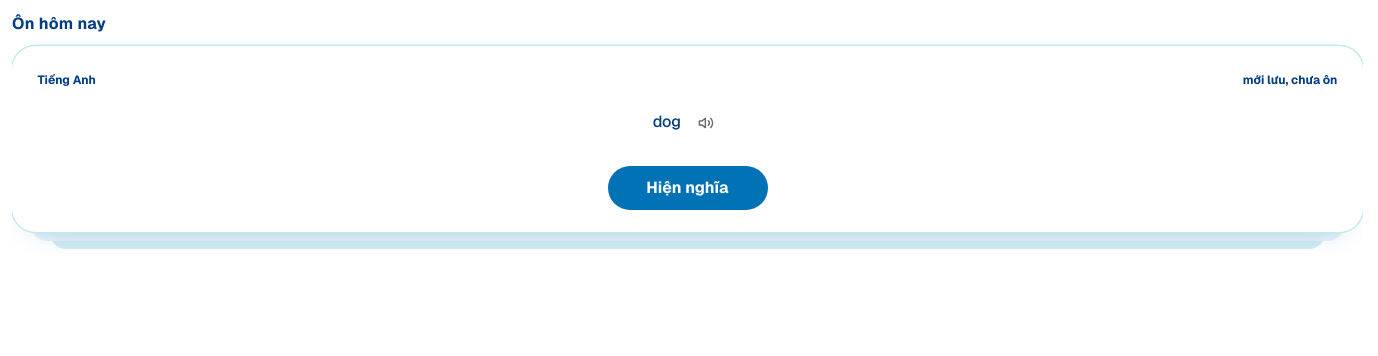
HomeReviewDeck › sends a word graded Lại to the end of the session
Click the button "Hiện nghĩa": (688, 188) [608, 166, 768, 210]
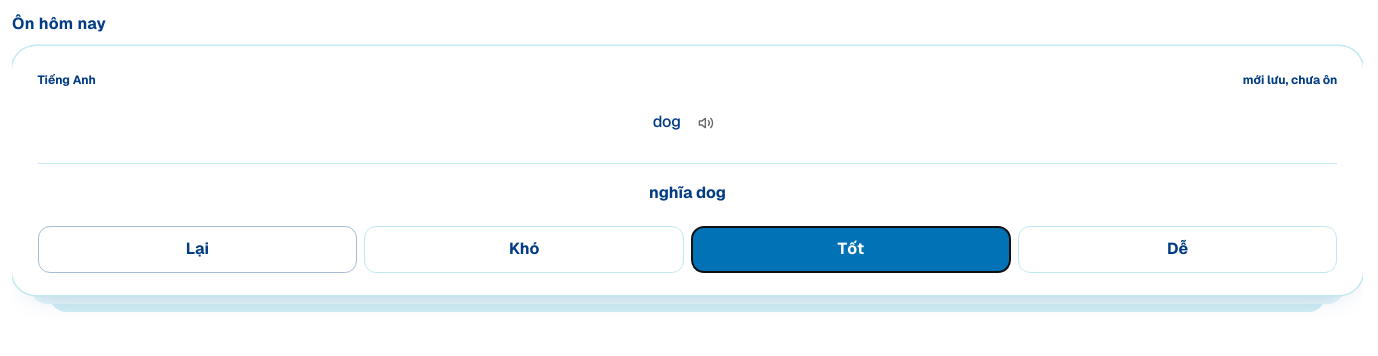
Click the button "Lại": (197, 249) [38, 226, 357, 273]
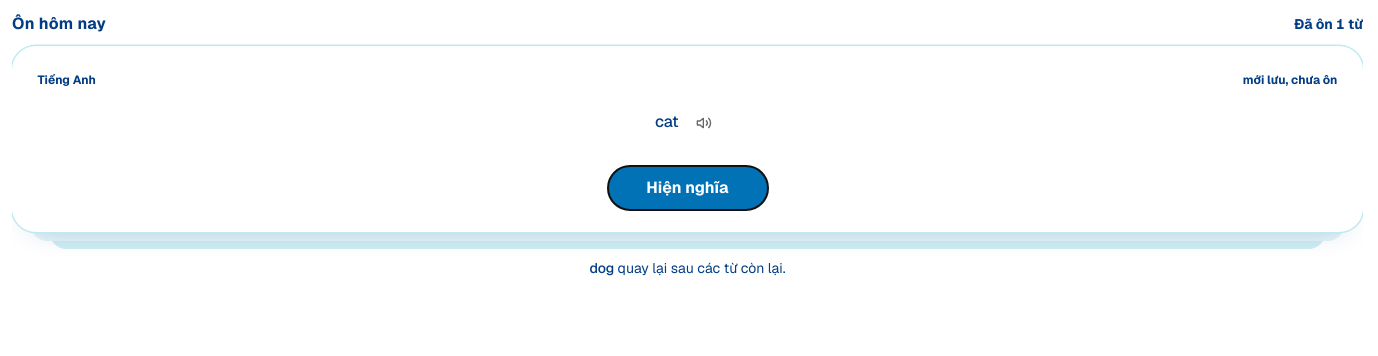
expect the text "cat" is shown: met, box [655, 114, 678, 131]
Click the button "Hiện nghĩa": (688, 188) [608, 166, 768, 210]
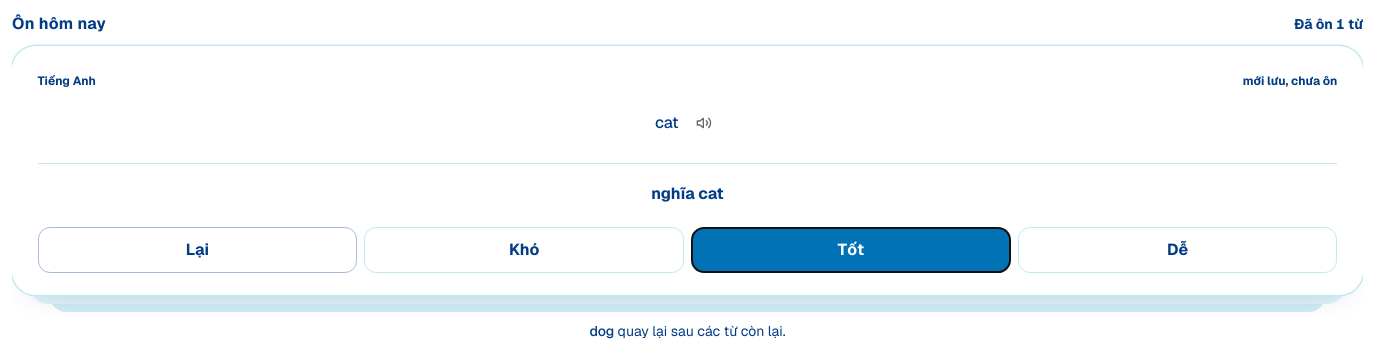
Click the button "Tốt": (851, 249) [691, 226, 1011, 273]
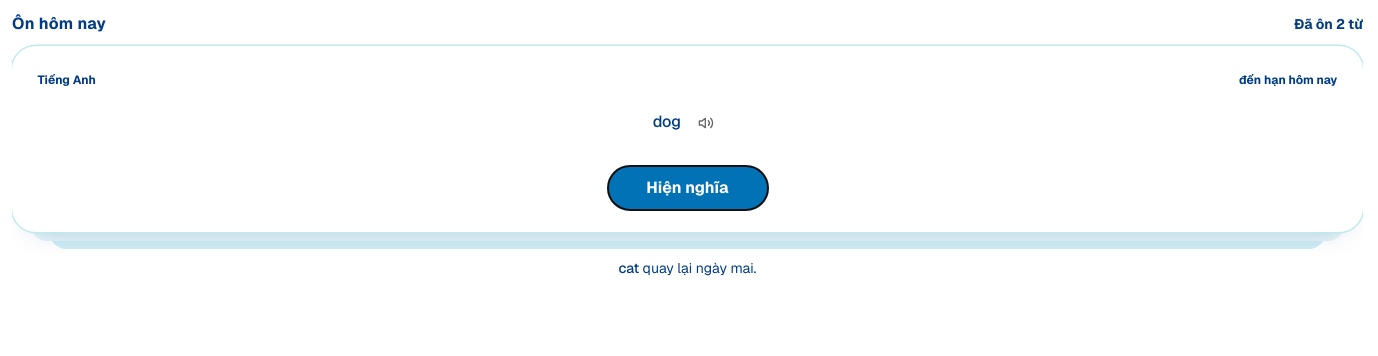
expect the text "dog" is shown: met, box [653, 114, 681, 131]
